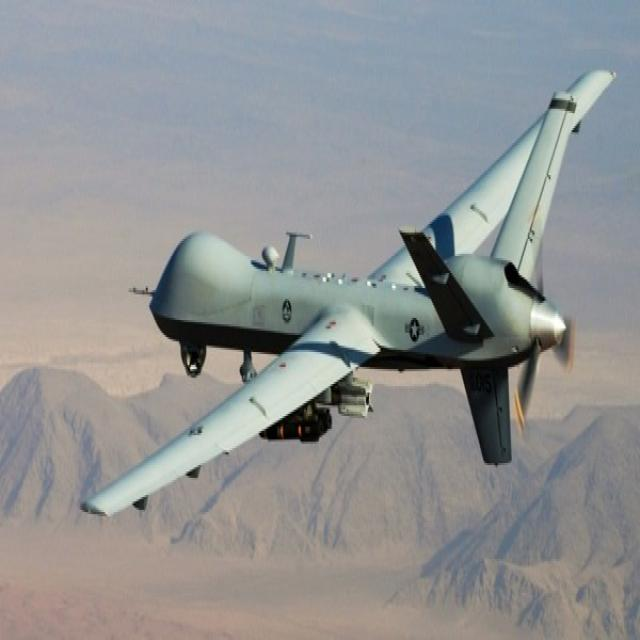MQ9: (69, 0, 632, 606)
